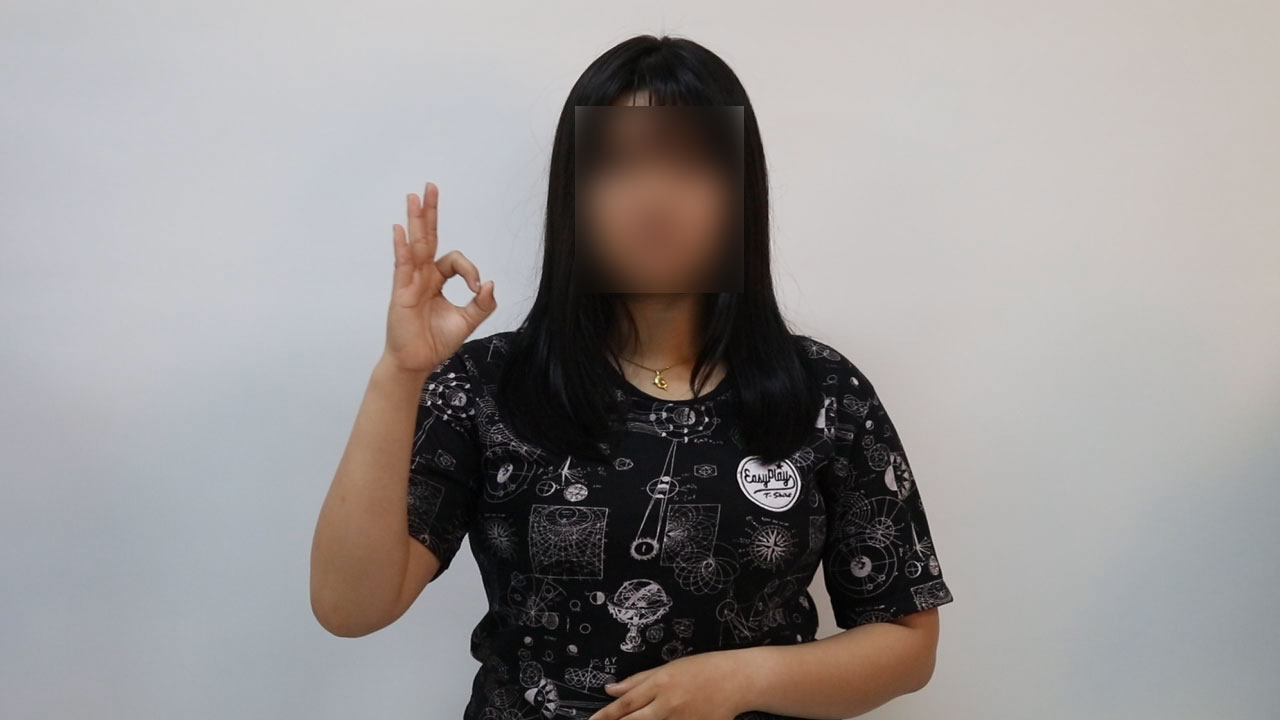for: (360, 171, 504, 390)
